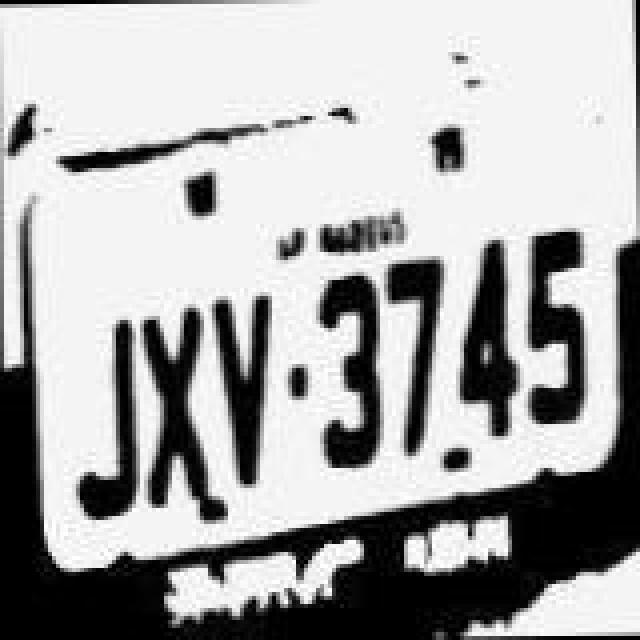3: (310, 270, 386, 490)
4: (454, 222, 526, 446)
5: (518, 198, 598, 450)
7: (380, 248, 448, 468)
J: (72, 284, 144, 524)
V: (210, 278, 278, 510)
X: (138, 280, 214, 508)
